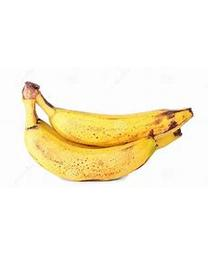banana: (19, 78, 197, 185)
